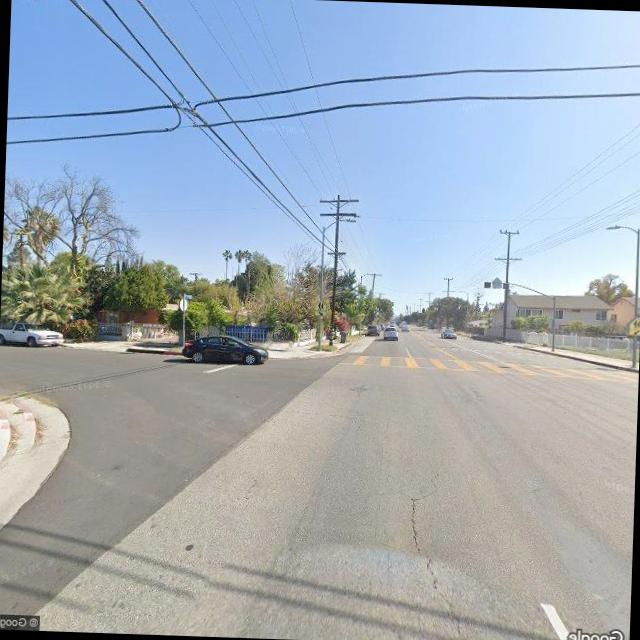pothole: (405, 467, 483, 640)
